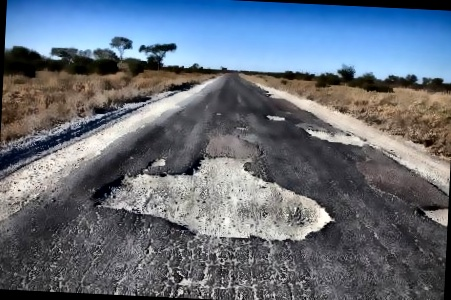pothole: (88, 148, 339, 244), (303, 124, 366, 148), (416, 201, 448, 226), (146, 156, 168, 168), (262, 112, 286, 121)
